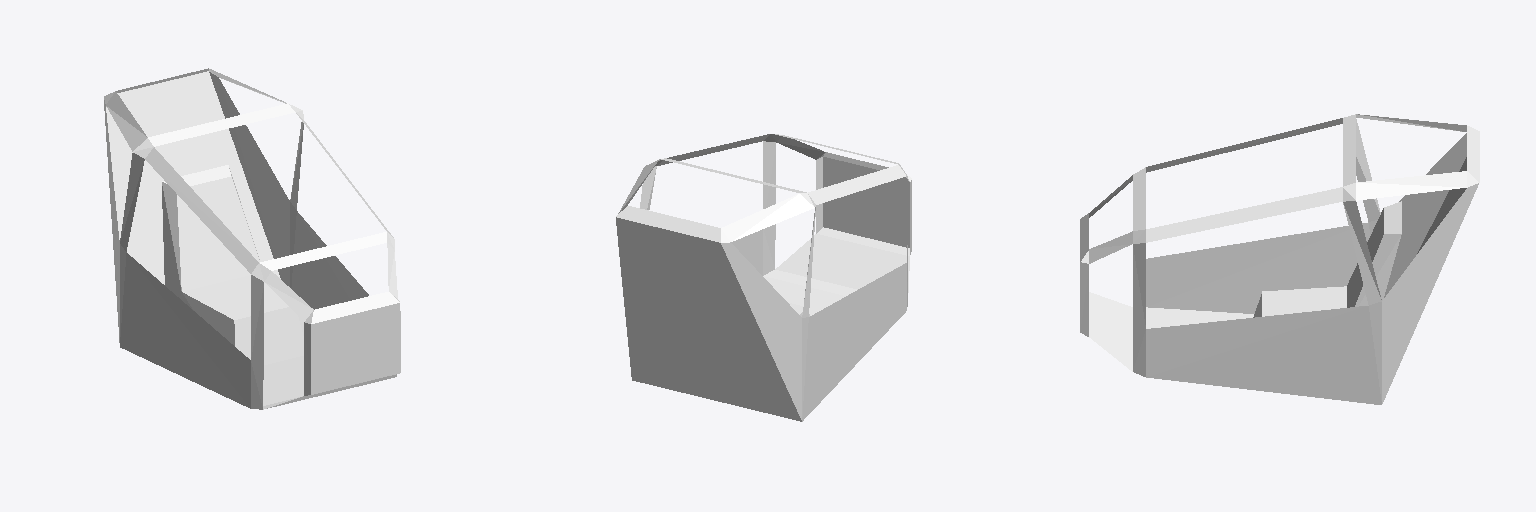
Rendered from gvrf_ship_mesh.obj.
3 renders of one model, left to right at view 1: azimuth 30°, elevation 25°; view 2: azimuth 150°, elevation 25°; view 3: azimuth 270°, elevation 25°, orthographic.
Size of the model in its own units: 11.14 by 13.48 by 22.62.